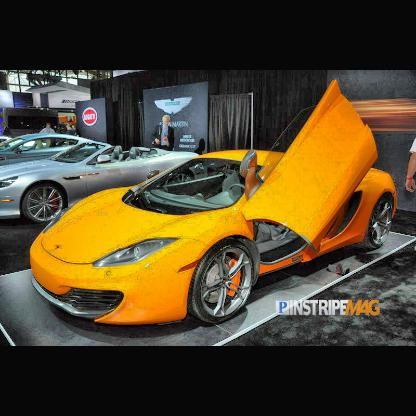McLaren MP4-12C Coupe 2012: (29, 79, 399, 330)
